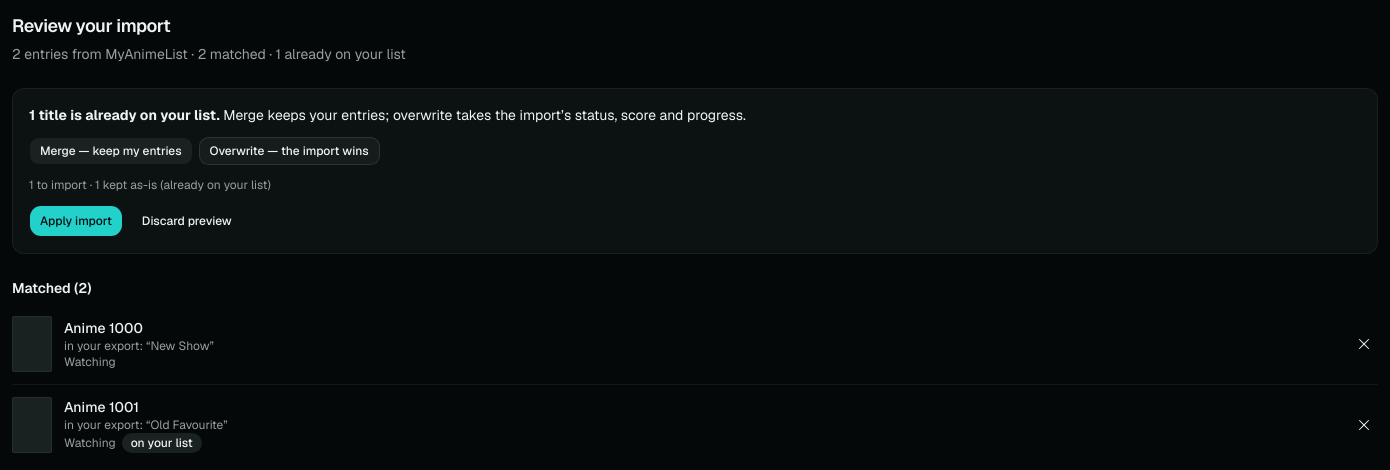
it: ImportPreview › merge counts preview-time conflicts as kept, overwrite imports them
Check: the text "1 to import · 1 kept as-is (already on your list)" is shown, box x1=29 y1=177 x2=271 y2=193
Check: the text "1 title is already on your list." is shown, box x1=29 y1=106 x2=220 y2=124
Click the button "Overwrite — the import wins" at (289, 151), box x1=199 y1=137 x2=380 y2=165
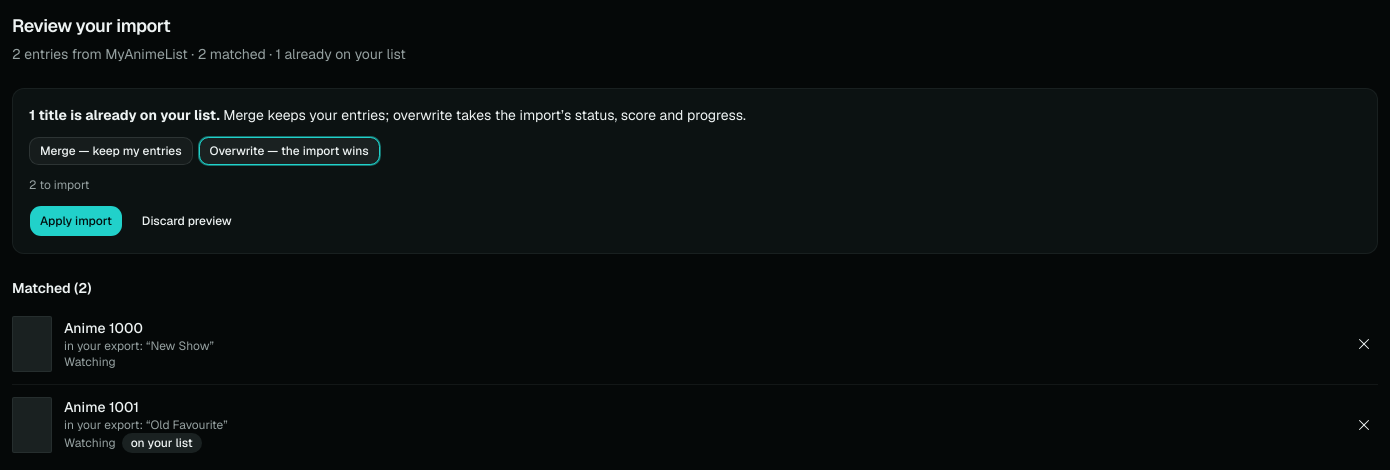
Check: the text "2 to import" is shown, box x1=29 y1=177 x2=90 y2=193
